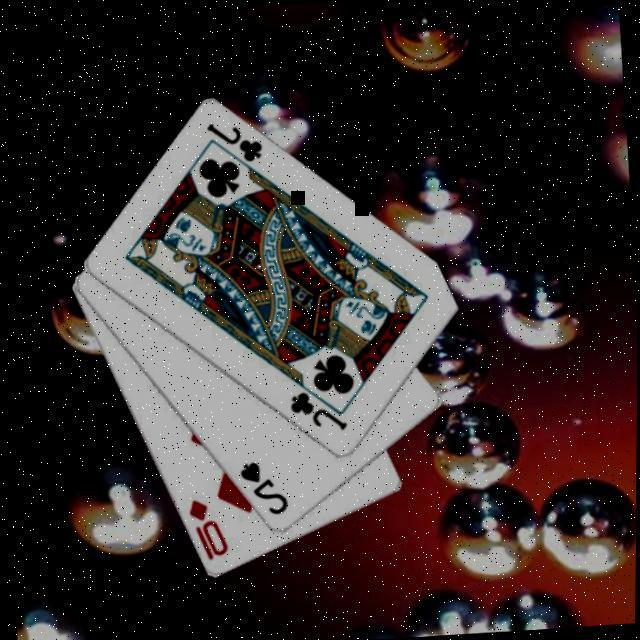10D: (184, 496, 231, 567)
2S: (235, 458, 291, 522)
JC: (202, 117, 266, 169), (285, 387, 350, 437)
